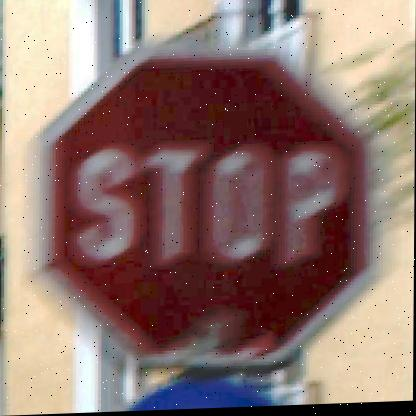Stop Sign: (8, 33, 374, 378)
